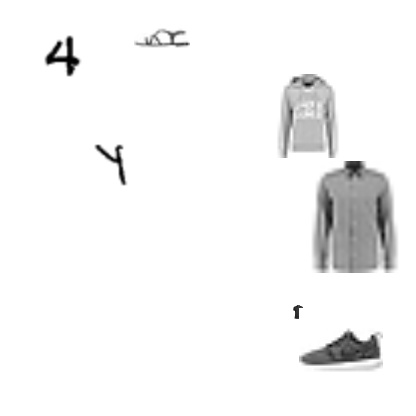4: (35, 28, 91, 84), (85, 131, 141, 187)
Pullover: (266, 74, 350, 158)
Sandal: (134, 9, 190, 65)
Shirt: (297, 161, 409, 273)
Sneaker: (299, 308, 383, 392)
T-shirt/top: (291, 305, 305, 319)
